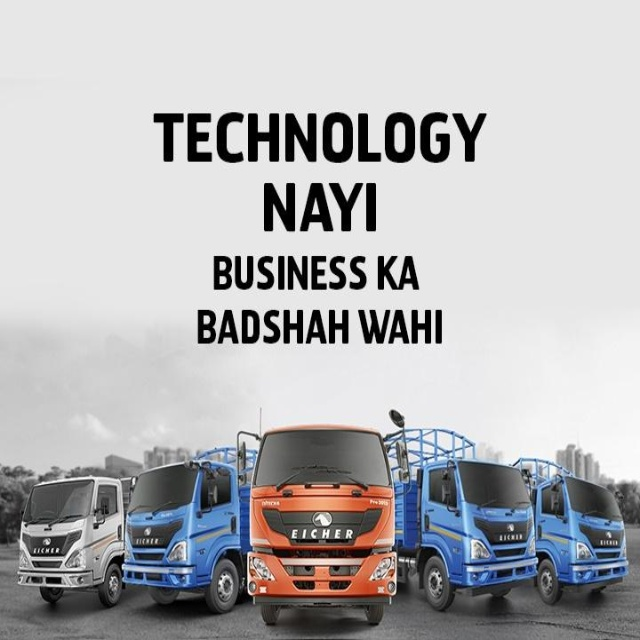Truck: (247, 422, 398, 624), (384, 428, 538, 612), (121, 445, 256, 614), (512, 456, 628, 605), (16, 474, 136, 607)
